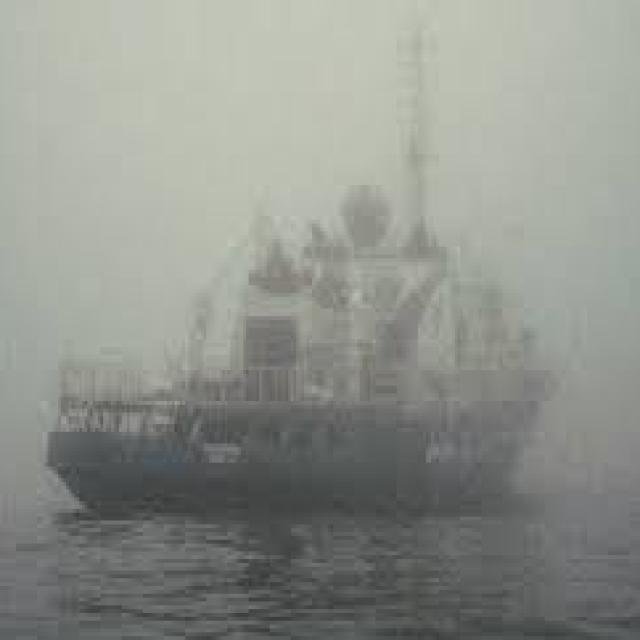fishing boat: (38, 152, 567, 517)
